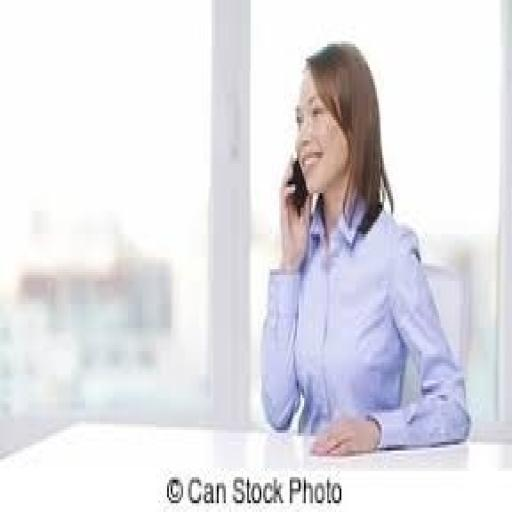calling: (258, 38, 471, 459)
